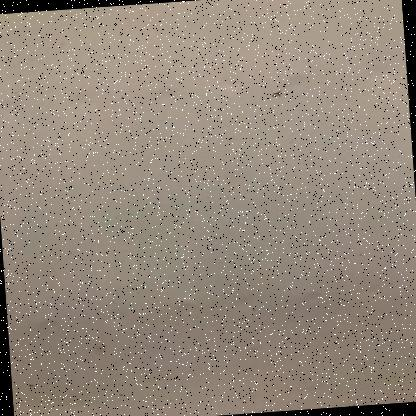Nocrack: (1, 4, 415, 415)
